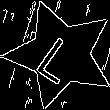L_NE: (32, 25, 88, 84)
